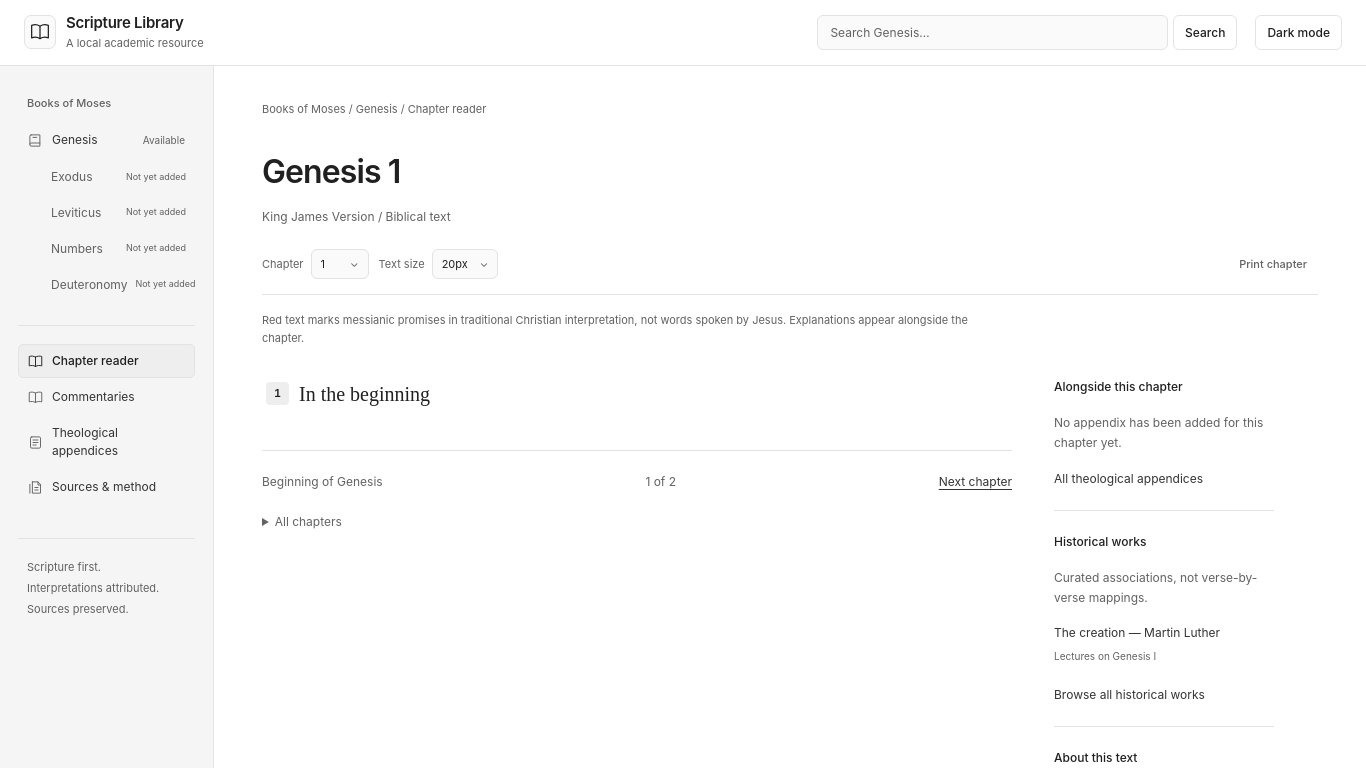
Scenario: links only explicitly curated historical sections alongside a Genesis chapter, separate from its text
Expected: the heading "Genesis 1" is shown, x1=262 y1=152 x2=400 y2=191
Expected: the text "Preface" is not shown
Click the link "The creation — Martin Luther". click: (1137, 633)
box: x1=1054 y1=625 x2=1220 y2=640
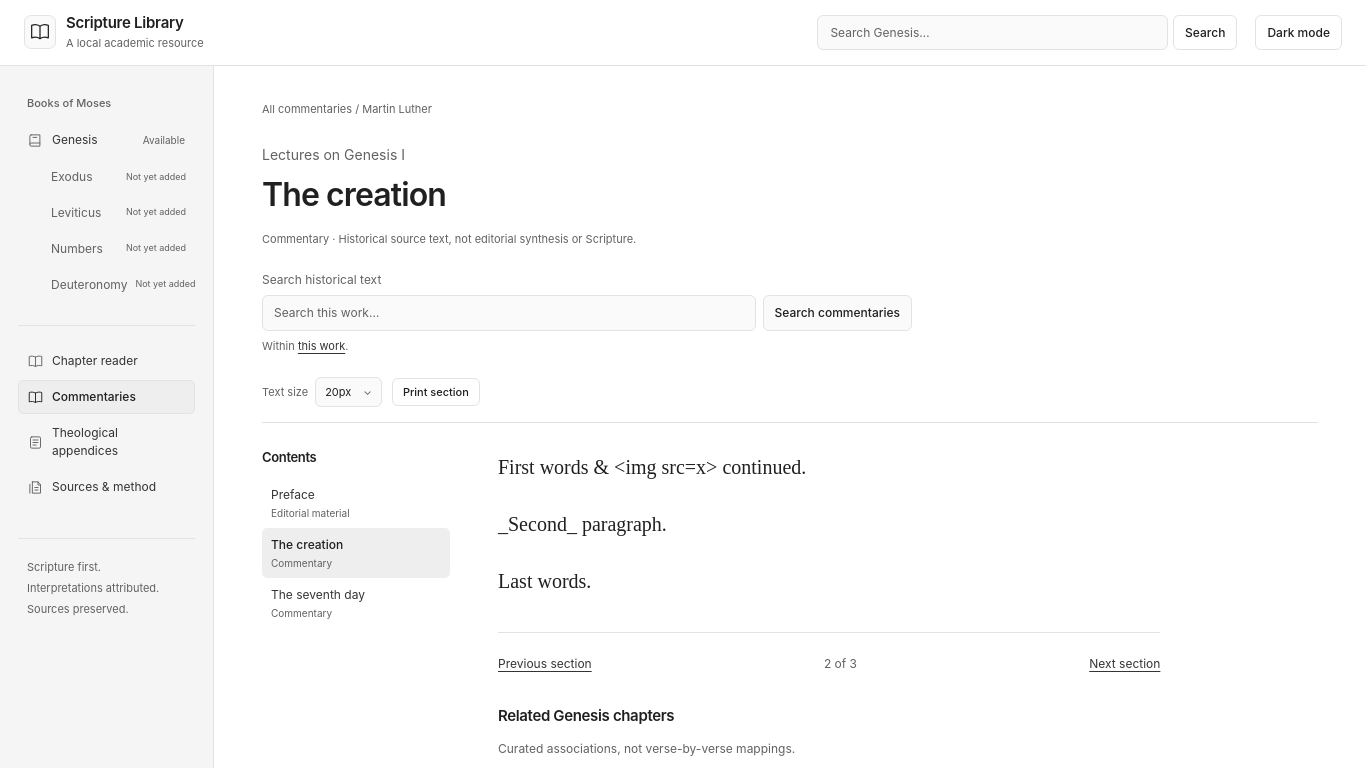
Expected: the element named "The creation" is shown, x1=498 y1=456 x2=806 y2=592
